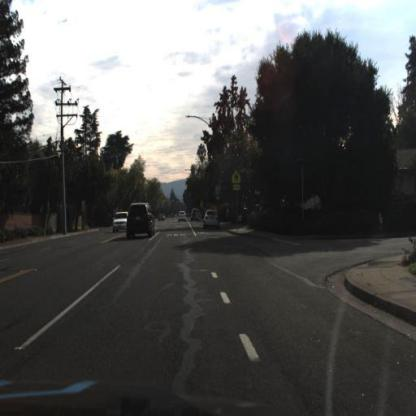car: (124, 199, 158, 243), (113, 212, 129, 237), (206, 211, 220, 229), (177, 209, 189, 227), (192, 208, 202, 225), (176, 210, 188, 224)
